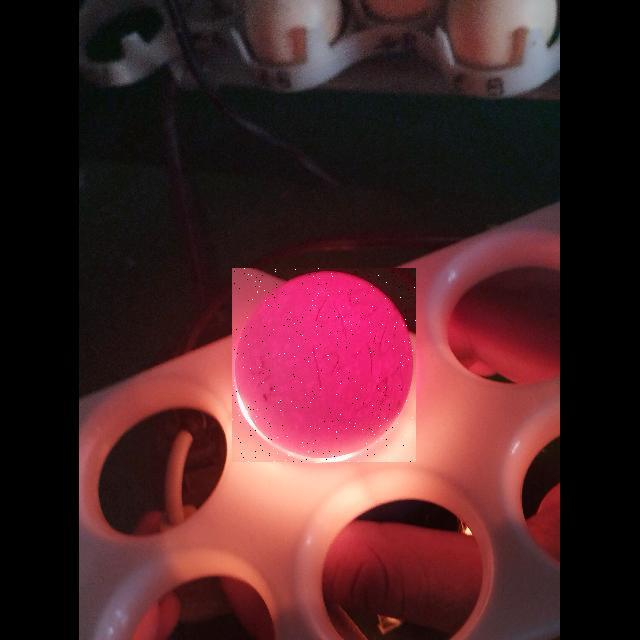Infertile: (232, 268, 416, 462)
